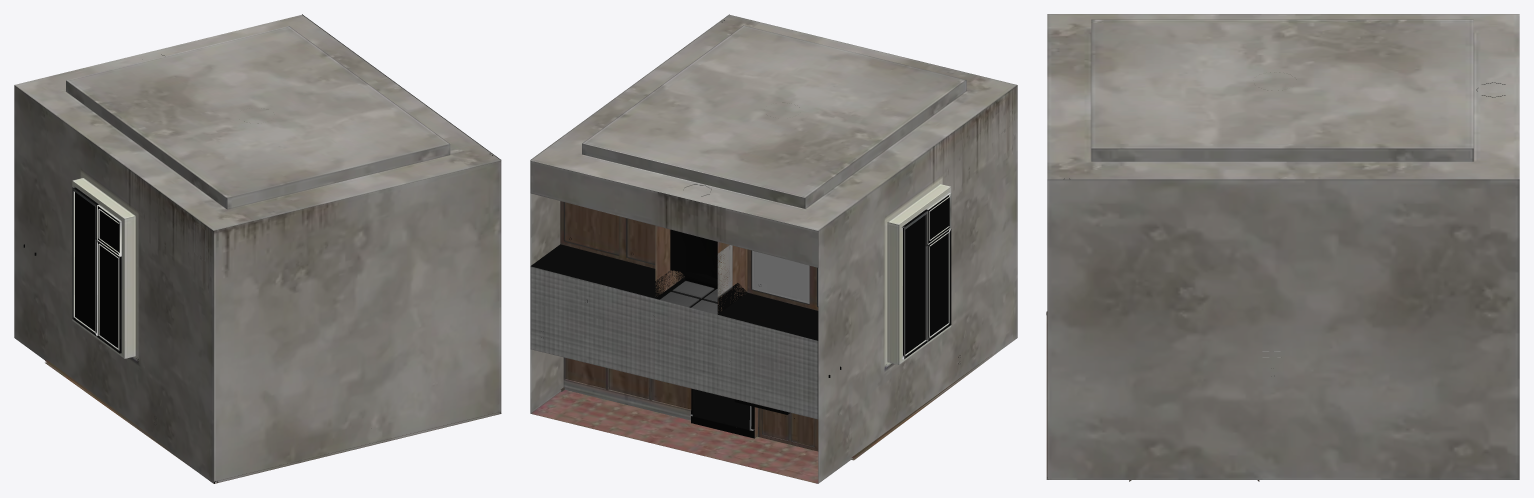
Rendered from kitchen-in-rent-flat.glb.
The picture shows the model from 3 angles, left to right: view 1: azimuth 30°, elevation 25°; view 2: azimuth 150°, elevation 25°; view 3: azimuth 270°, elevation 25°; orthographic projection. The views are drawn at different scales.
Parts seen in each view (by area): view 1: Object_2; view 2: Object_2; view 3: Object_2.
Part boxes in pixels (x1,y1,x2,y2): Object_2: [14, 14, 501, 483]; Object_2: [530, 14, 1017, 483]; Object_2: [1046, 14, 1519, 481].
Bounding box in the file's own units: 358 × 303 × 410.
Materials: 1 (1 with a texture image).
